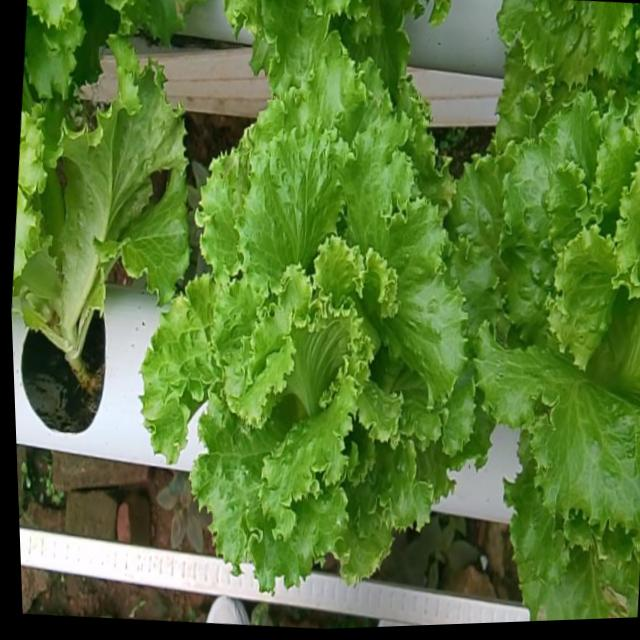Mature: (148, 69, 481, 606), (456, 101, 640, 547)
